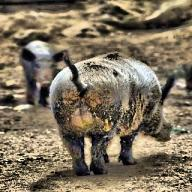boar: (48, 51, 176, 176)
